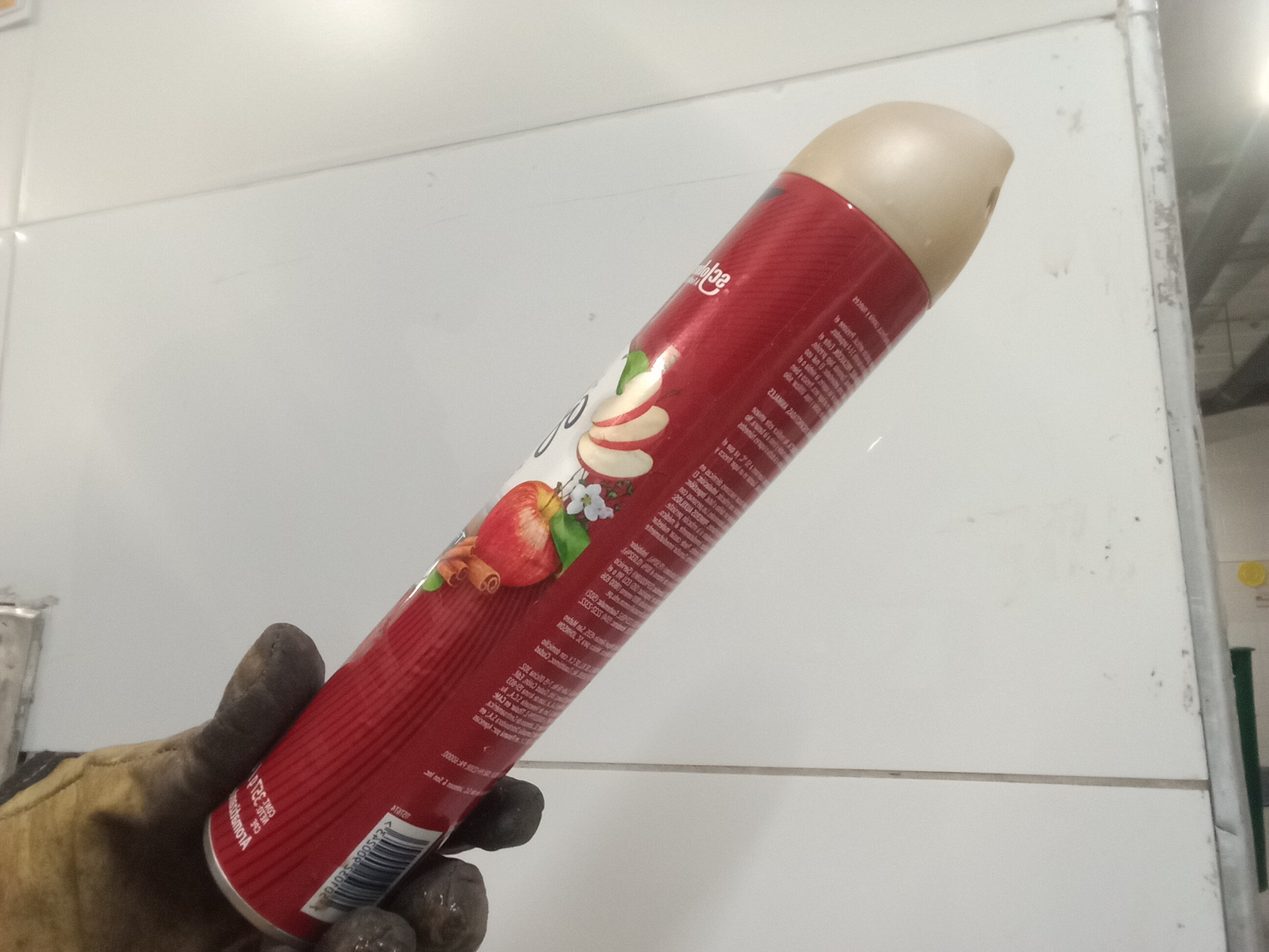Metal: (203, 175, 931, 952)
